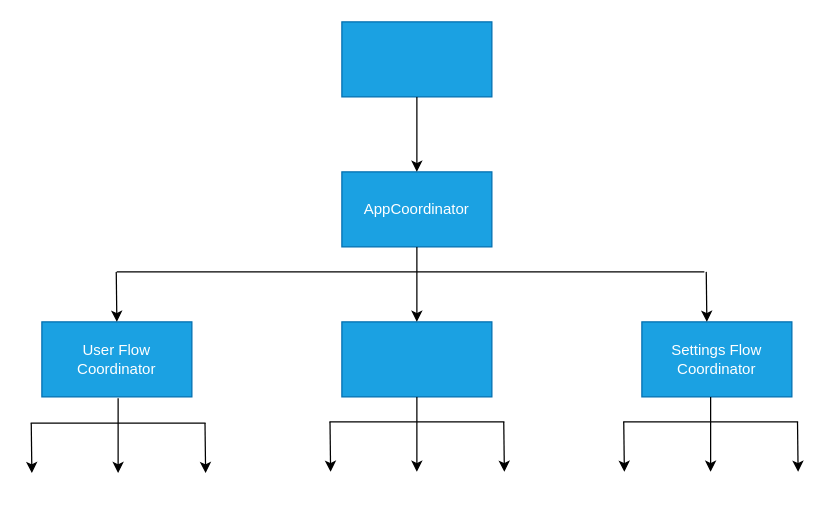
This 830x505 diagram has some shape labels left out. The box of each missing label's shape, as (x1, y1, x2, y2) in pixels:
ContentView: (341, 21, 492, 97)
Profile Flow Coordinator: (341, 321, 492, 397)
